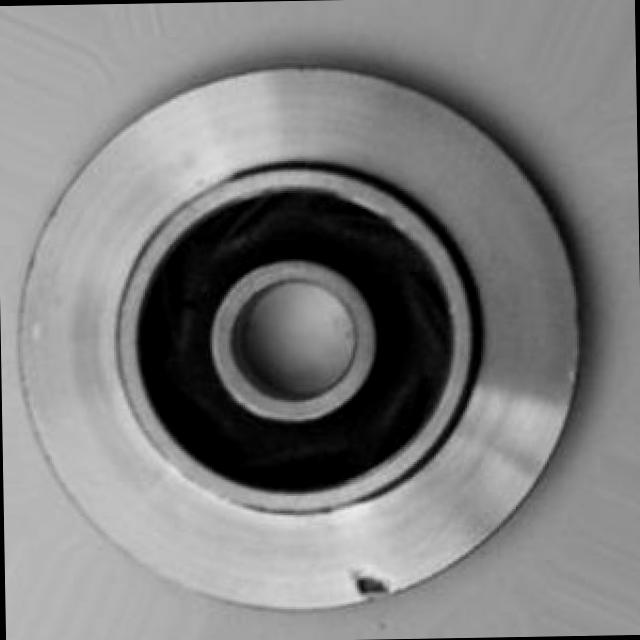Defect: (348, 562, 391, 604)
